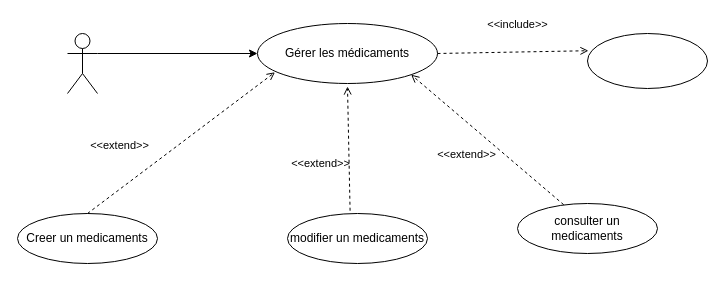
Image size: 725x281. Some labels were removed from this diagram. The centre of each missing label's shape, as x and y in pixels:
"Login" belongs at point (647, 60).
"Pharmacien" belongs at point (82, 63).
